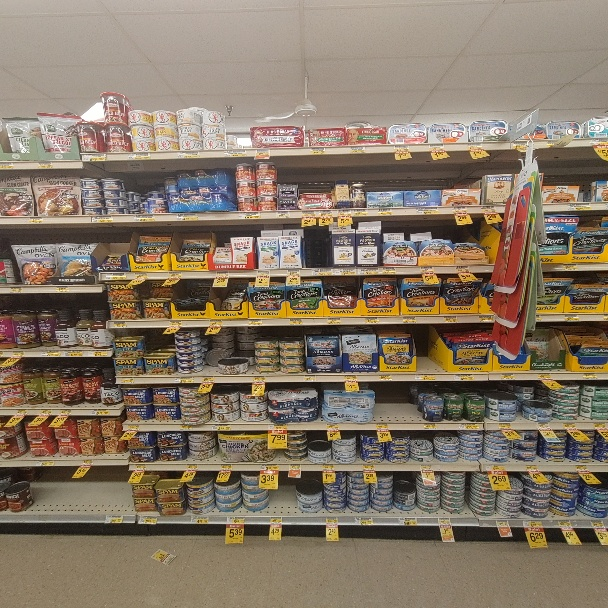All PRICE TAGS: (84, 154, 106, 161), (523, 520, 542, 528), (224, 150, 245, 157), (567, 204, 591, 210), (228, 516, 245, 524), (400, 517, 417, 525), (190, 516, 209, 523), (314, 268, 333, 275), (354, 517, 372, 524), (455, 373, 473, 380), (65, 350, 83, 357), (134, 215, 155, 221), (179, 213, 197, 220), (106, 515, 121, 523), (130, 153, 150, 159), (179, 151, 199, 157), (139, 516, 156, 523), (268, 424, 287, 430), (337, 268, 356, 274), (358, 268, 377, 274), (240, 212, 259, 218), (0, 162, 14, 170), (254, 149, 270, 156), (415, 374, 433, 380), (88, 350, 106, 356), (37, 460, 55, 466), (109, 322, 127, 328), (419, 207, 437, 213), (124, 422, 139, 429), (92, 216, 113, 221), (591, 520, 604, 528), (515, 141, 528, 149), (261, 464, 278, 470), (42, 350, 59, 356), (467, 142, 484, 148), (106, 273, 126, 278), (322, 463, 336, 470), (269, 517, 283, 524), (402, 316, 416, 323), (252, 375, 266, 382), (538, 373, 552, 380), (456, 266, 470, 273), (350, 146, 364, 153), (482, 205, 496, 212), (130, 464, 146, 470), (178, 376, 194, 382), (488, 464, 504, 470), (461, 423, 480, 428), (325, 517, 338, 524), (438, 517, 451, 524), (339, 209, 352, 216), (378, 207, 391, 214), (479, 316, 494, 322), (119, 377, 134, 383), (378, 374, 393, 380), (178, 423, 193, 429), (310, 148, 325, 154), (38, 162, 53, 168), (592, 140, 607, 146), (420, 267, 435, 273), (168, 321, 183, 327), (132, 272, 147, 278), (167, 272, 182, 278), (213, 424, 230, 429), (376, 423, 390, 429), (184, 463, 198, 469), (363, 463, 377, 469), (327, 318, 341, 324), (365, 317, 379, 323), (443, 316, 457, 322), (303, 375, 317, 381), (326, 424, 340, 430), (583, 372, 595, 379), (536, 423, 550, 429), (559, 520, 571, 527), (497, 520, 509, 527), (563, 264, 577, 270), (381, 267, 395, 273), (208, 320, 222, 326), (394, 144, 408, 150), (430, 144, 444, 150), (454, 206, 468, 212), (215, 271, 229, 277), (256, 270, 270, 276), (92, 410, 108, 415), (420, 463, 433, 469), (202, 375, 215, 381), (501, 374, 514, 380), (564, 315, 577, 321), (302, 211, 315, 217), (594, 423, 607, 429), (576, 465, 587, 472), (218, 464, 233, 469), (345, 374, 357, 380), (320, 210, 332, 216), (277, 212, 289, 218), (30, 217, 42, 223), (10, 287, 22, 293), (423, 423, 437, 428), (288, 319, 302, 324), (248, 320, 262, 325), (287, 270, 301, 275), (564, 423, 575, 429), (359, 209, 370, 215), (289, 464, 302, 469), (56, 287, 68, 292), (41, 409, 51, 415), (13, 352, 24, 357), (82, 459, 93, 464), (499, 424, 510, 429), (17, 409, 26, 415), (60, 410, 70, 415), (526, 466, 537, 470), (353, 208, 358, 215), (548, 141, 553, 145)
